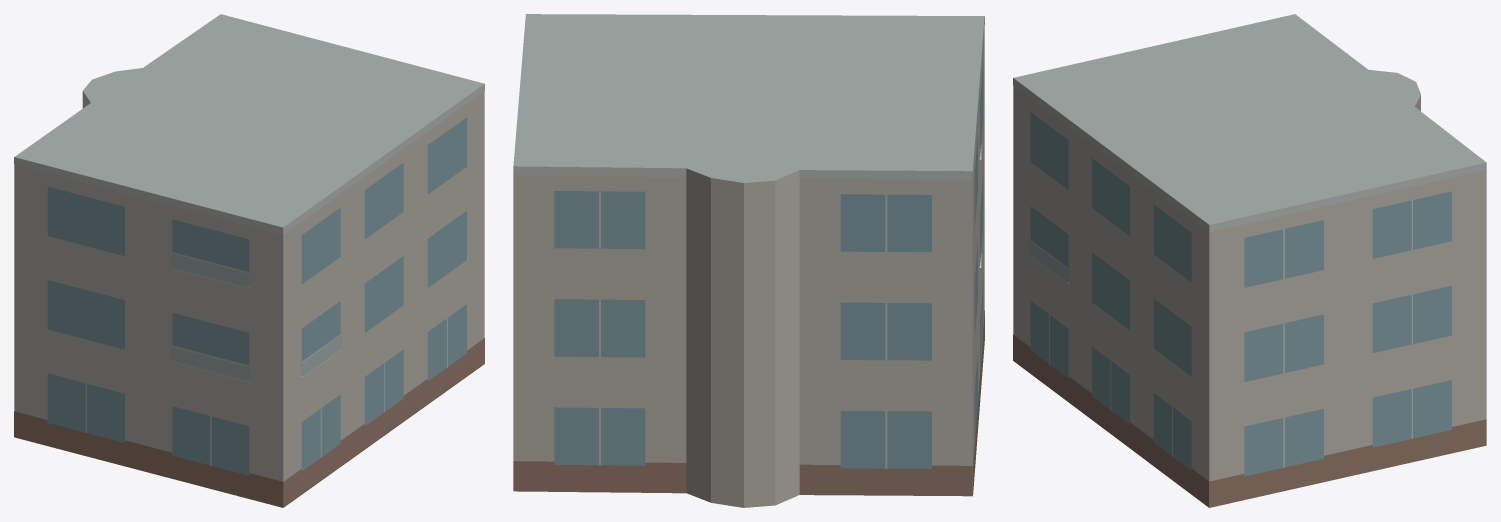
Rendered from survey-upis-32924966.glb.
The picture shows the model from 3 angles, left to right: view 1: azimuth 30°, elevation 25°; view 2: azimuth 150°, elevation 25°; view 3: azimuth 270°, elevation 25°; orthographic projection. The views are drawn at different scales.
Visible parts, largest first — view 1: survey-upis-32924966.tmp; view 2: survey-upis-32924966.tmp; view 3: survey-upis-32924966.tmp.
Boxes of the visible parts, x1,y1,x2,y2 form: survey-upis-32924966.tmp: (14, 14, 484, 507); survey-upis-32924966.tmp: (513, 14, 984, 507); survey-upis-32924966.tmp: (1013, 14, 1486, 507).
Size of the model in its own units: 14.63 by 9.15 by 13.89.
